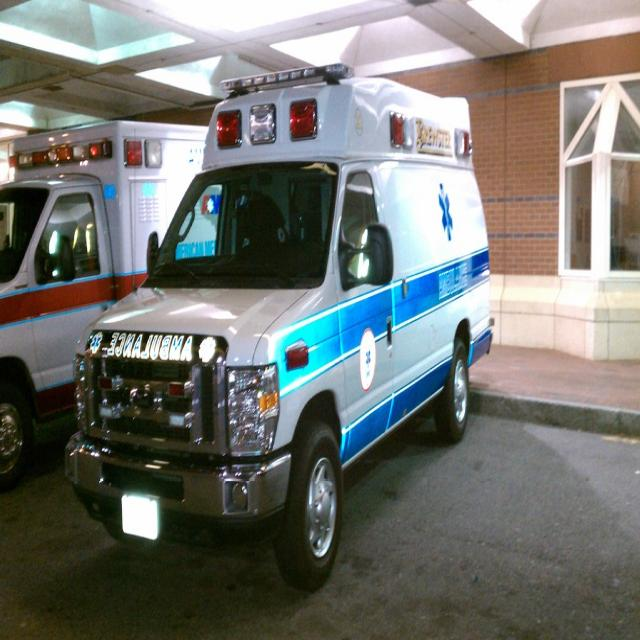Ambulance: (63, 57, 495, 584), (0, 118, 217, 491)
